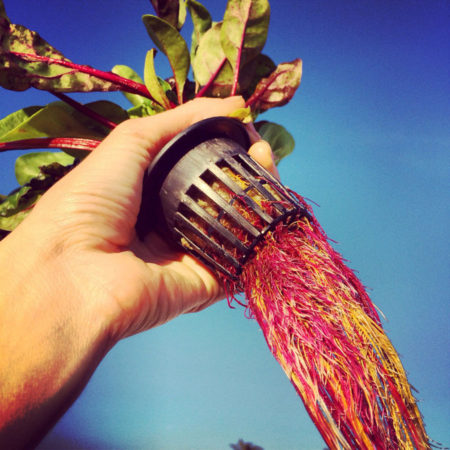basket: (136, 113, 309, 278)
